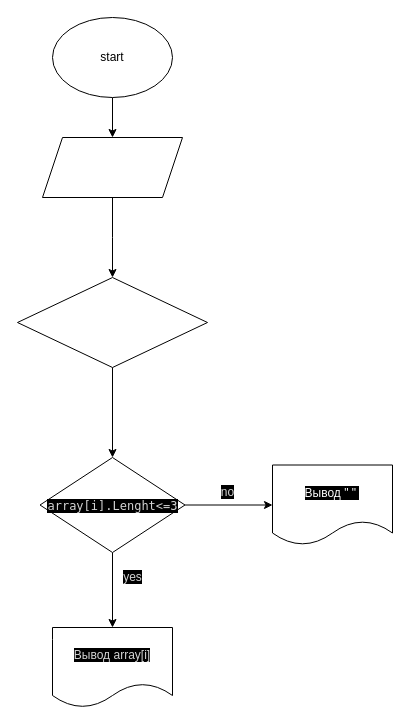
Image size: 410x725. Some labels were removed from this diagram. The centre of each missing label's shape, as x and y in pixels:
"for(i=0,i<array.Lenght, i++)" belongs at (x=112, y=322).
"string [] array" belongs at (x=112, y=167).
